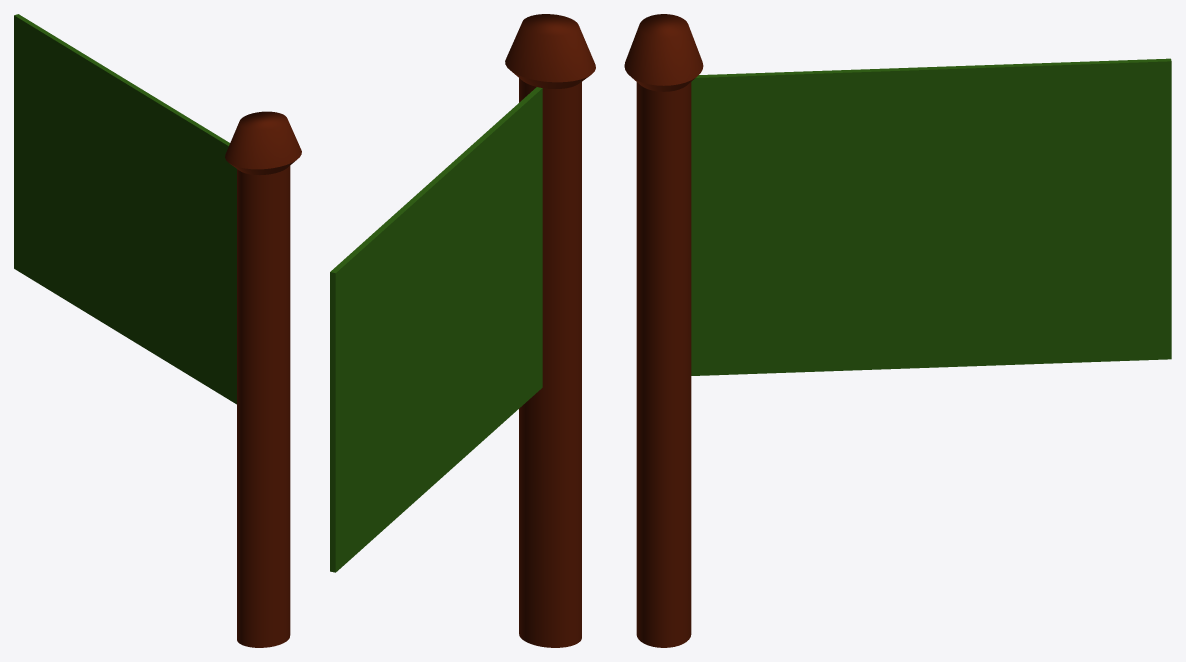
File: checkpointFlag.fbx
The picture shows the model from 3 angles, left to right: view 1: azimuth 30°, elevation 25°; view 2: azimuth 150°, elevation 25°; view 3: azimuth 270°, elevation 25°; orthographic projection. The views are drawn at different scales.
Parts seen in each view (by area): view 1: flag; view 2: flag; view 3: flag.
Part boxes in pixels (box(x1,y1,x2,y2)): flag: box(14, 14, 301, 647); flag: box(330, 14, 595, 647); flag: box(624, 14, 1171, 647).
Size of the model in its own units: 23.36 by 166 by 136.
